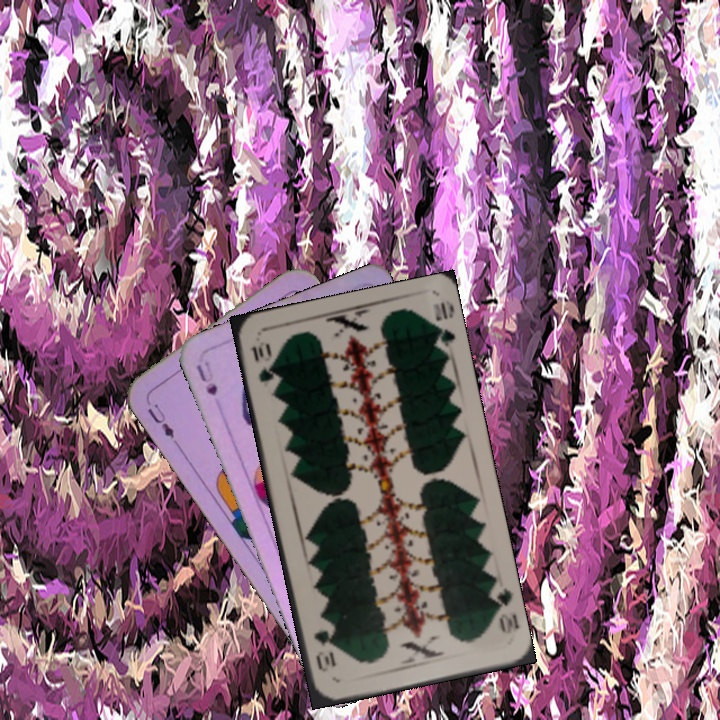EU: (143, 400, 177, 442)
G10: (485, 584, 520, 637), (247, 337, 277, 385)
SU: (192, 357, 221, 398)
